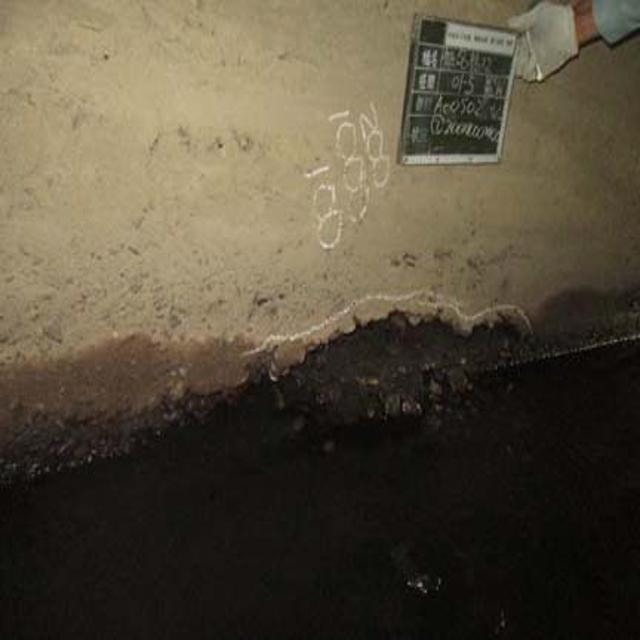spalling: (272, 293, 552, 423)
